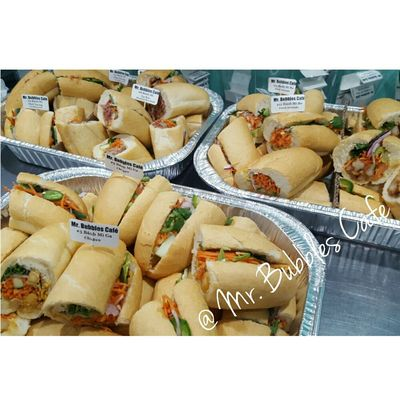soup: (190, 220, 302, 314), (41, 239, 143, 332), (133, 191, 220, 280), (0, 221, 70, 322), (9, 173, 89, 235), (234, 147, 324, 199), (332, 128, 400, 189), (262, 111, 342, 153), (96, 89, 152, 147)
sushi: (194, 94, 397, 213)
